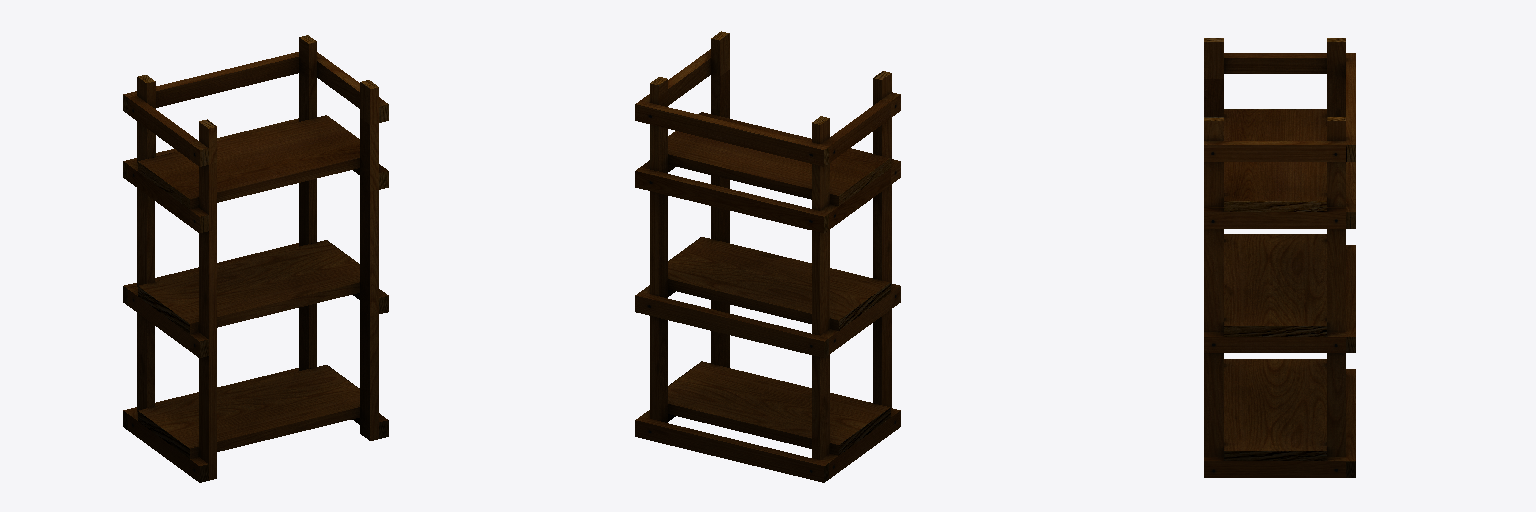
3 renders of one model, left to right at view 1: azimuth 30°, elevation 25°; view 2: azimuth 150°, elevation 25°; view 3: azimuth 270°, elevation 25°, orthographic.
Parts seen in each view (by area): view 1: Cube; view 2: Cube; view 3: Cube.
Boxes of the visible parts, x1,y1,x2,y2 form: Cube: [123, 35, 388, 482]; Cube: [635, 31, 900, 482]; Cube: [1204, 38, 1355, 477].
Bounding box in the file's own units: 1.58 × 2.81 × 1.1.
Materials: 1 (1 with a texture image).